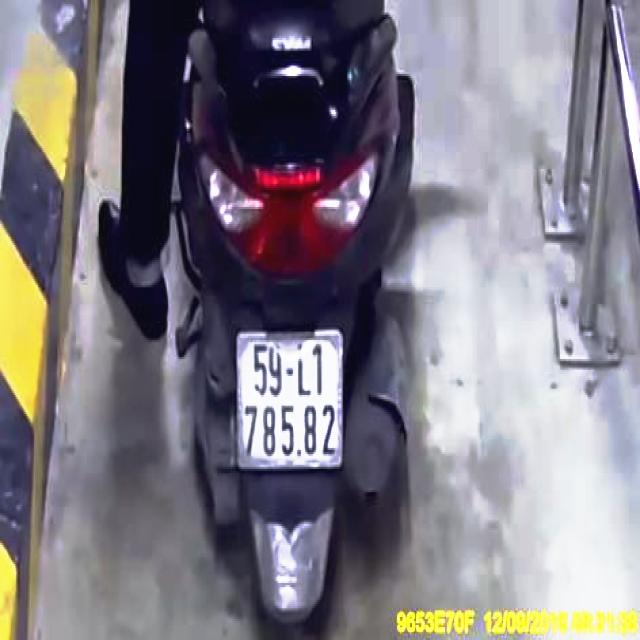license_plate: (238, 333, 342, 469)
